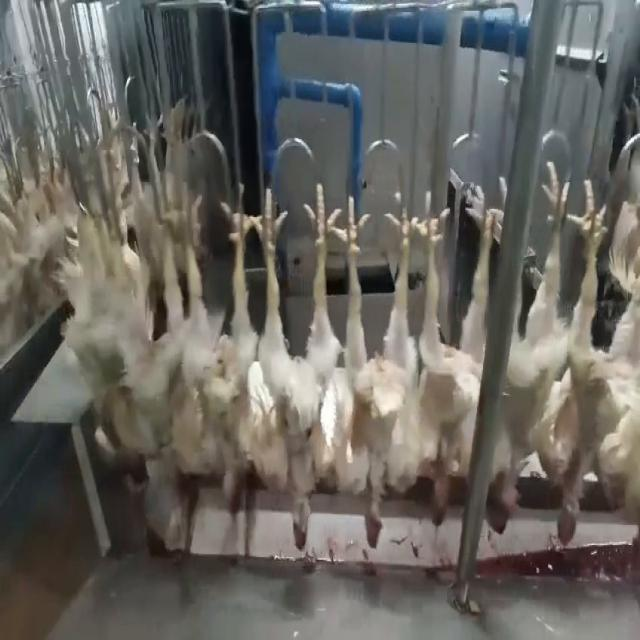chicken: (486, 164, 576, 539), (337, 189, 421, 553), (255, 179, 334, 552), (557, 186, 636, 539), (176, 175, 255, 518), (412, 187, 488, 531), (122, 183, 178, 536)
